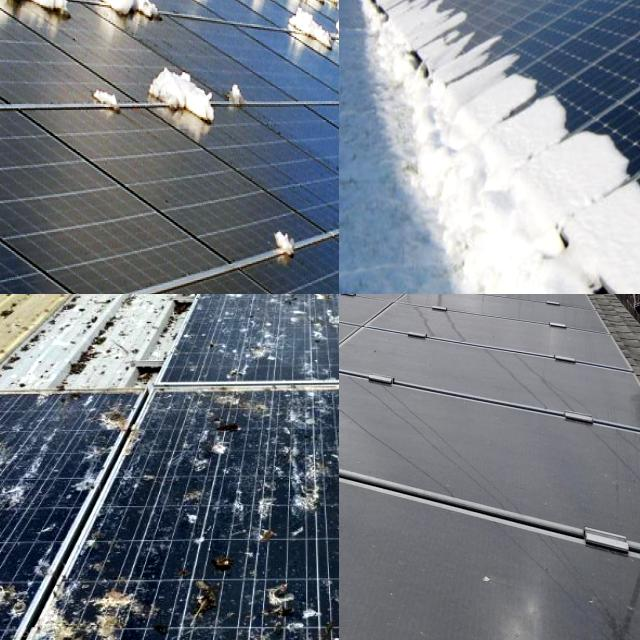bird: (29, 564, 135, 640), (166, 537, 244, 625), (240, 389, 339, 454), (234, 307, 339, 365), (257, 566, 339, 640), (268, 470, 339, 554), (66, 394, 146, 467), (0, 419, 32, 526), (0, 571, 29, 639)
dust: (451, 550, 570, 640), (339, 486, 394, 640)
panel: (484, 111, 622, 294), (388, 11, 496, 128), (146, 46, 215, 136), (567, 121, 635, 197), (429, 0, 490, 79), (60, 0, 166, 39), (557, 0, 640, 41), (0, 0, 72, 47), (224, 40, 262, 122), (164, 0, 253, 35), (264, 222, 314, 282), (532, 78, 577, 144), (85, 0, 175, 31), (245, 0, 339, 29), (492, 46, 536, 103), (81, 70, 130, 120), (292, 9, 339, 60), (0, 0, 43, 53), (0, 0, 49, 45), (0, 0, 58, 35), (356, 0, 424, 22), (443, 0, 501, 22), (501, 0, 549, 25), (395, 0, 452, 21)
